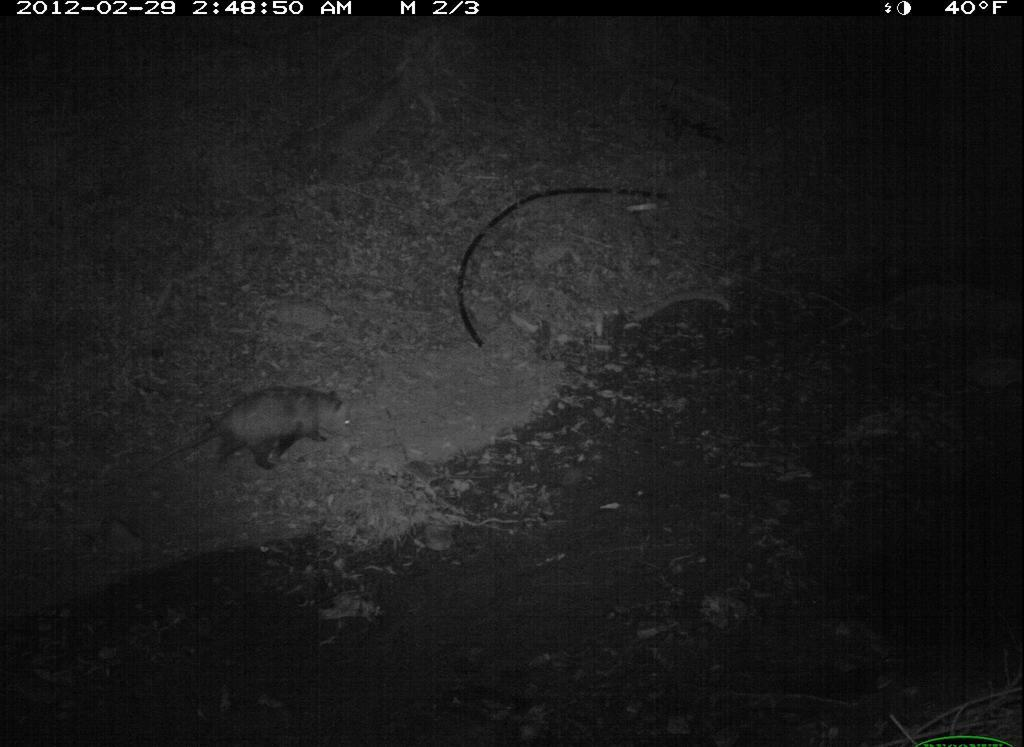opossum: (189, 373, 360, 475)
